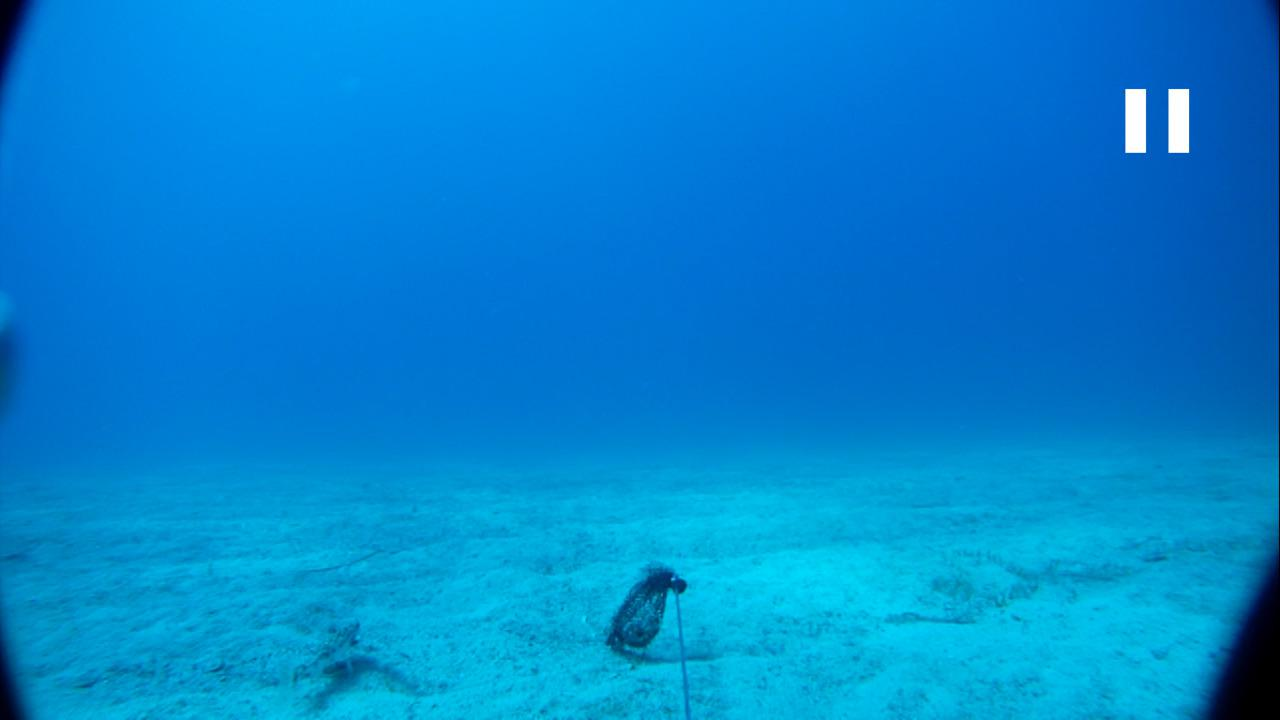dactylopterus: (258, 619, 401, 700)
